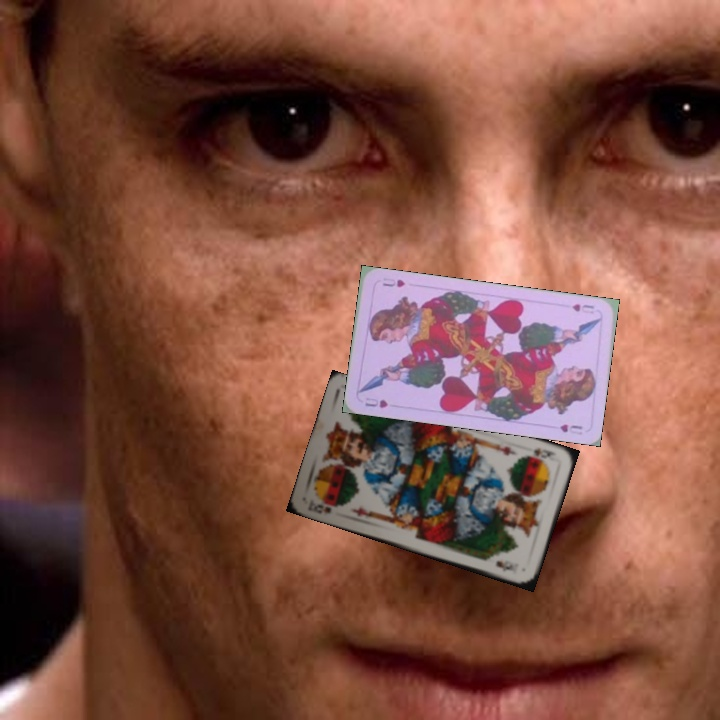HU: (361, 393, 390, 411), (568, 300, 597, 316)
SK: (521, 444, 558, 464), (304, 496, 333, 516)
